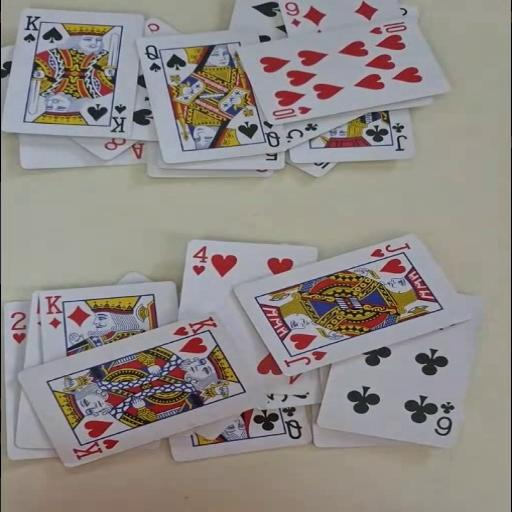10: (270, 104, 313, 121), (366, 20, 409, 35)
2: (8, 309, 28, 345)
4: (189, 244, 208, 276)
5: (283, 121, 320, 144)
6: (431, 400, 456, 436)
8: (102, 136, 128, 151)
9: (282, 0, 303, 28)
J: (281, 348, 329, 368), (367, 240, 412, 258), (390, 121, 408, 152)
K: (69, 436, 121, 461), (169, 314, 220, 337), (43, 293, 64, 330), (20, 13, 42, 44), (107, 102, 128, 133)
Q: (143, 43, 162, 73)
